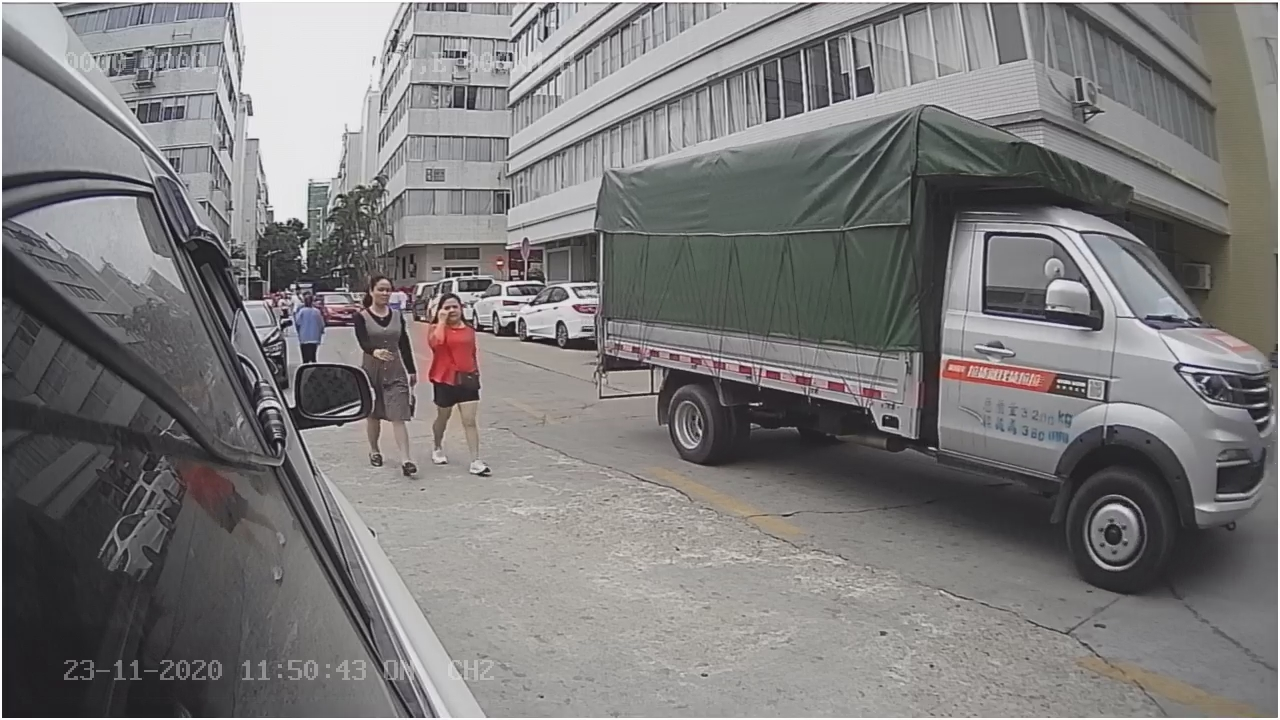person: (425, 288, 498, 475)
